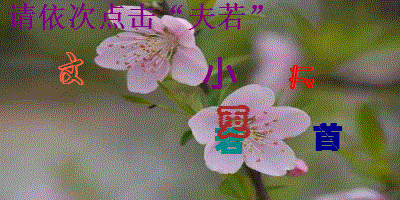text: (216, 105, 251, 140), (202, 56, 237, 90), (311, 120, 344, 154), (213, 124, 248, 156), (57, 50, 86, 86), (287, 64, 317, 90)
